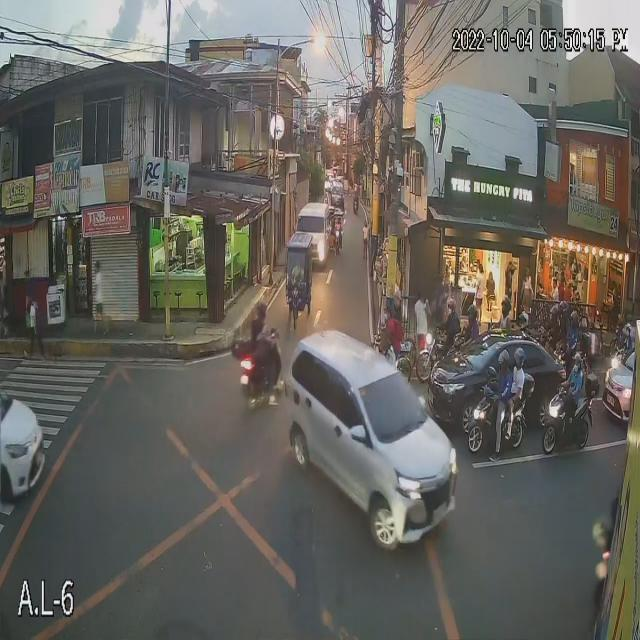helmet: (253, 296, 268, 323), (563, 311, 580, 334), (497, 349, 510, 379), (464, 302, 480, 323), (574, 350, 586, 372), (557, 302, 572, 319), (515, 311, 527, 331), (547, 304, 558, 325), (514, 347, 525, 368), (498, 297, 510, 315), (446, 298, 457, 315), (623, 323, 632, 338)
motorcycle: (466, 378, 538, 459), (539, 384, 603, 457), (234, 328, 284, 413), (416, 329, 451, 380), (608, 343, 632, 376)
rider: (487, 342, 515, 415), (561, 349, 592, 403), (247, 293, 272, 357), (508, 347, 528, 409), (562, 310, 584, 354), (439, 297, 457, 341), (494, 289, 513, 326), (542, 303, 560, 339), (462, 305, 480, 338), (554, 292, 570, 329), (619, 321, 635, 352), (517, 312, 532, 338)
